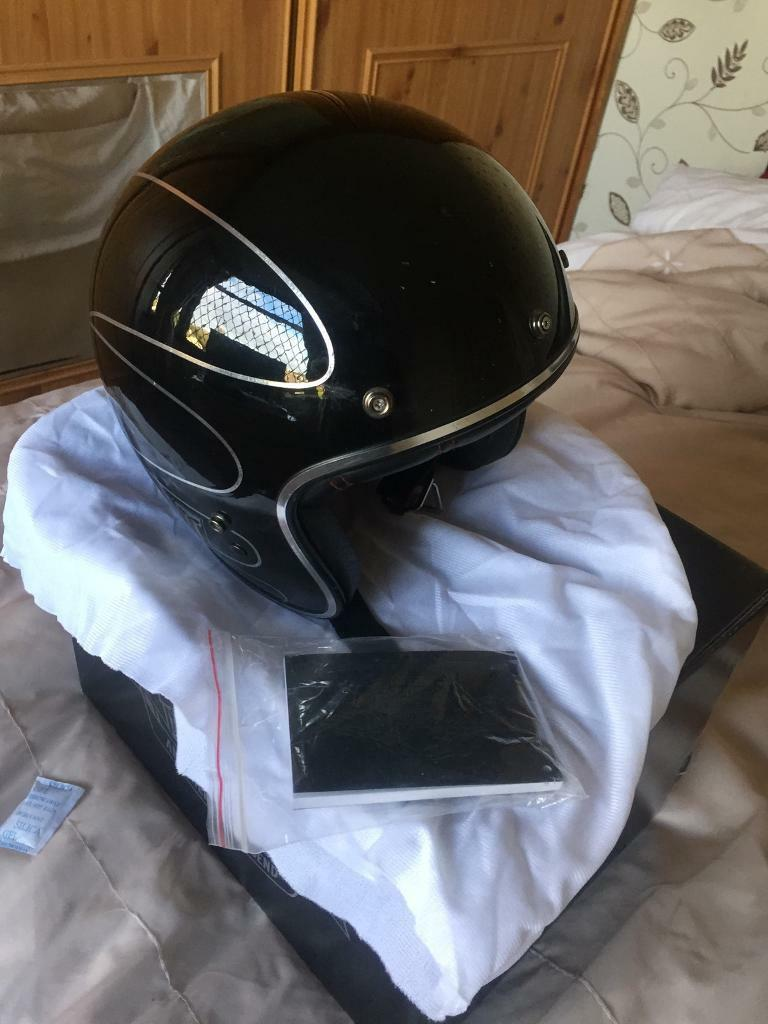with_helmet: (97, 85, 585, 623)
